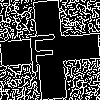F: (25, 25, 60, 73)
